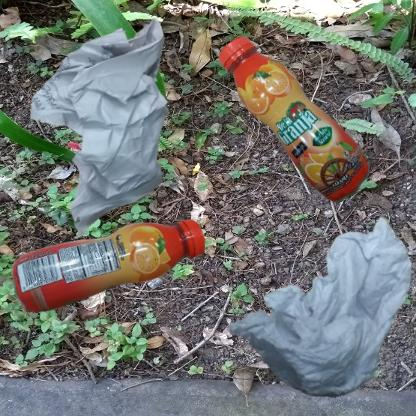botella: (213, 10, 416, 290), (10, 213, 209, 318)
papel: (10, 10, 234, 262), (213, 213, 416, 416)
